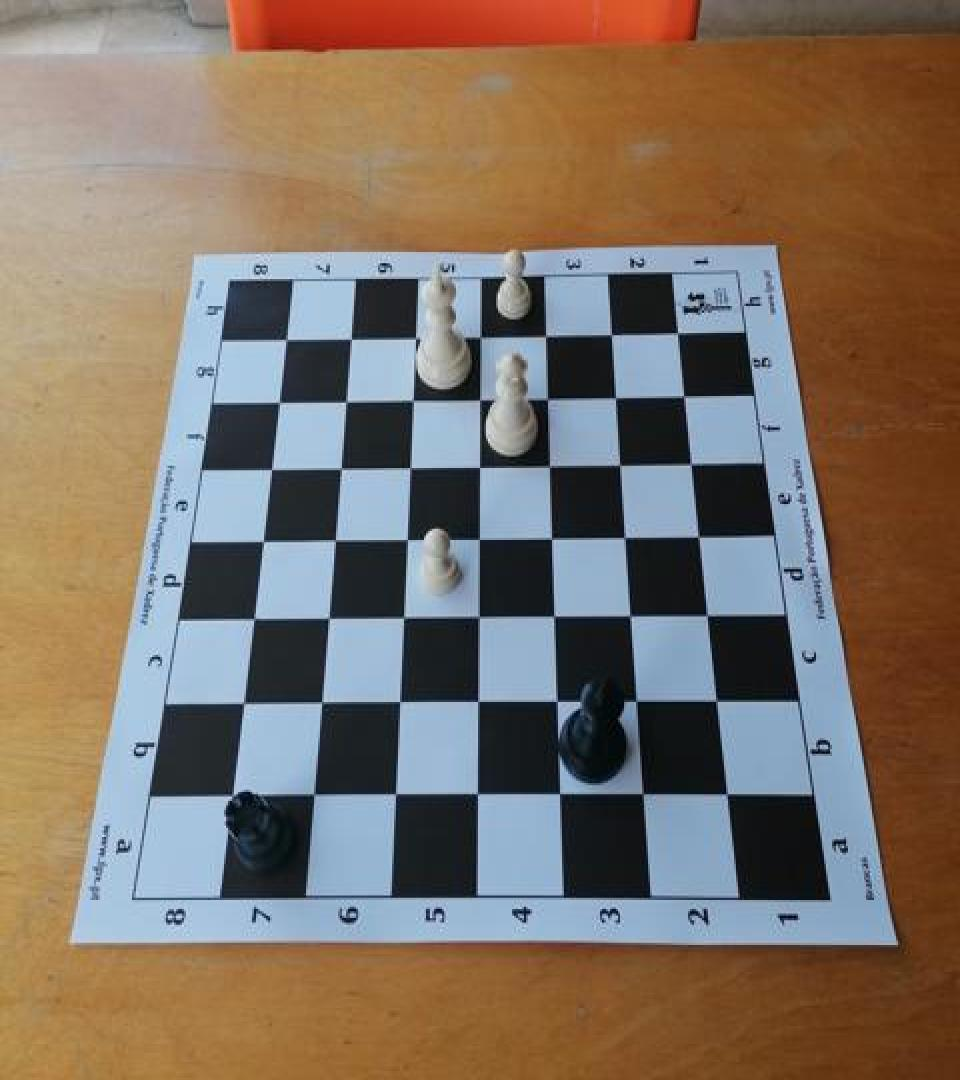xcorner: (216, 777, 246, 811), (299, 777, 329, 811), (381, 776, 411, 810), (464, 776, 494, 810), (548, 776, 578, 810), (631, 776, 661, 810), (715, 776, 745, 810), (228, 684, 258, 718), (307, 683, 337, 717), (386, 683, 416, 717), (465, 683, 495, 717), (545, 682, 575, 716), (625, 682, 655, 716), (705, 682, 735, 716), (239, 597, 269, 631), (315, 597, 345, 631), (390, 597, 420, 631), (466, 596, 496, 630), (542, 596, 572, 630), (619, 595, 649, 629), (695, 595, 725, 629), (249, 520, 279, 554), (322, 518, 352, 552), (394, 518, 424, 552), (467, 518, 497, 552), (540, 518, 570, 552), (613, 516, 643, 550), (686, 516, 716, 550), (259, 446, 289, 480), (328, 446, 358, 480), (398, 446, 428, 480), (468, 446, 498, 480), (538, 444, 568, 478), (608, 443, 638, 477), (678, 443, 708, 477), (267, 380, 297, 414), (334, 379, 364, 413), (401, 379, 431, 413), (468, 378, 498, 412), (536, 377, 566, 411), (603, 377, 633, 411), (671, 376, 701, 410), (275, 318, 305, 352), (340, 317, 370, 351), (404, 316, 434, 350), (469, 316, 499, 350), (534, 315, 564, 349), (599, 314, 629, 348), (664, 314, 694, 348)
